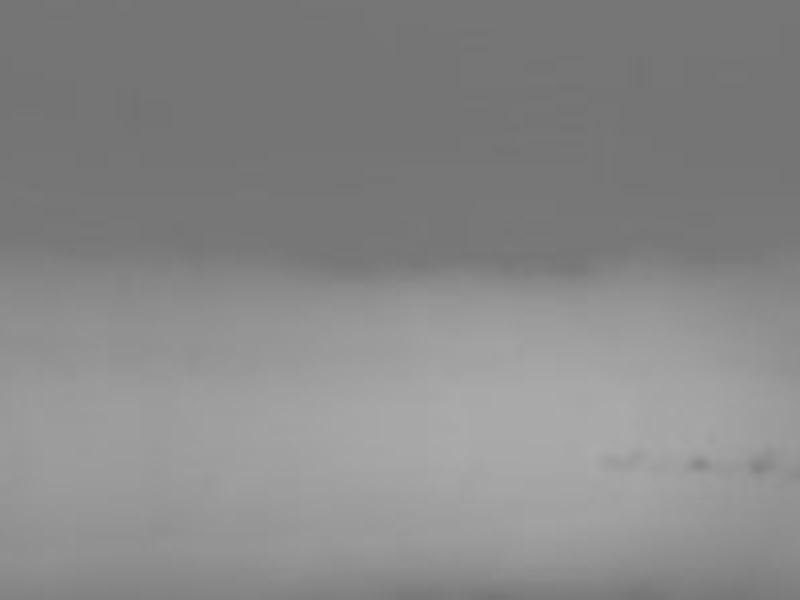defect: (595, 441, 644, 475), (746, 445, 777, 472), (688, 455, 718, 478)
